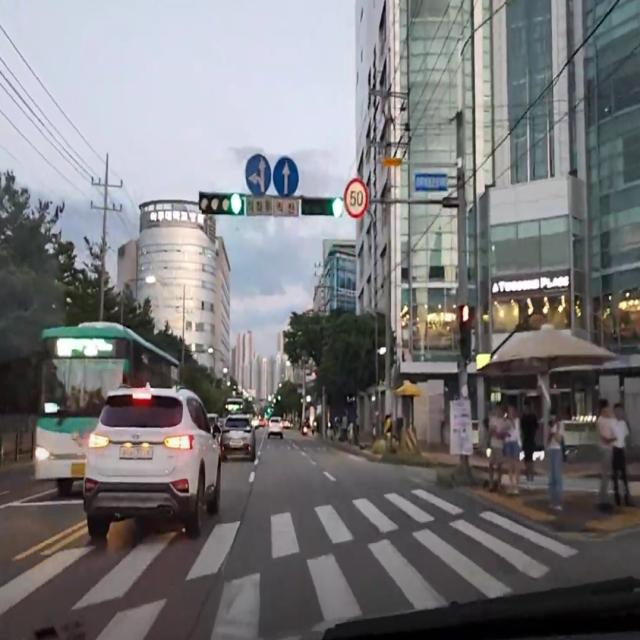Green Light: (229, 192, 243, 216), (331, 195, 344, 220)
